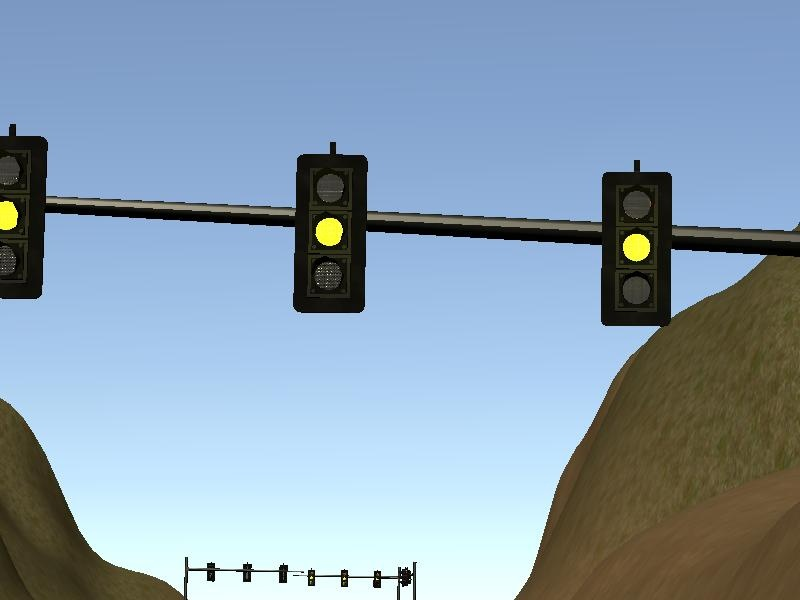yellow: (286, 137, 377, 325), (595, 160, 682, 336), (1, 127, 57, 318)
